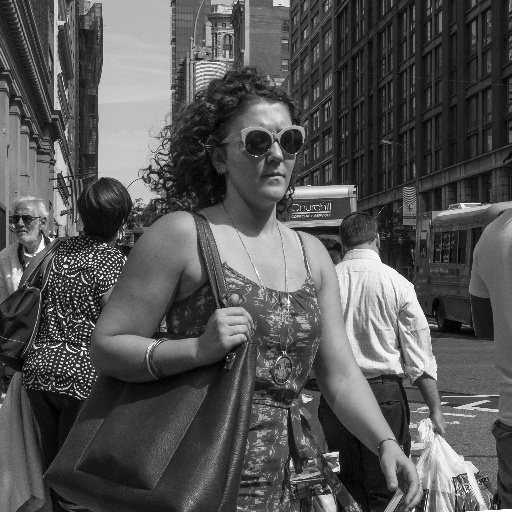hand: (197, 290, 257, 364), (376, 443, 427, 504), (429, 408, 448, 434)
